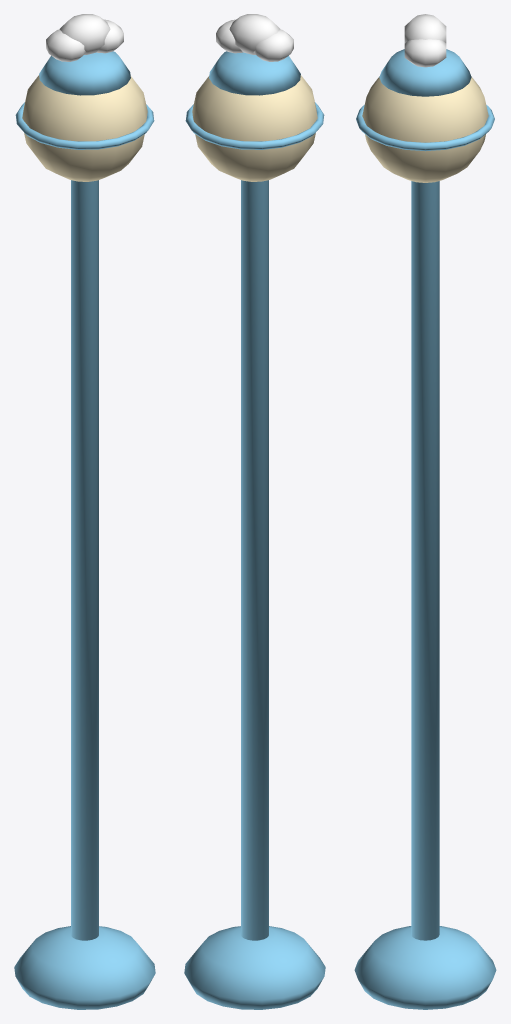
Rendered from street_lamp.glb.
3 views of the same model, side by side, from view 1: azimuth 30°, elevation 25°; view 2: azimuth 150°, elevation 25°; view 3: azimuth 270°, elevation 25° (orthographic).
Parts seen in each view (by area): view 1: Body; view 2: Body; view 3: Body.
Part boxes in pixels (x1=…): Body: x1=14, y1=14, x2=155, y2=1009; Body: x1=184, y1=14, x2=325, y2=1009; Body: x1=354, y1=14, x2=496, y2=1009.
Size of the model in its own units: 0.4 by 3 by 0.4.
3 materials, 3 textured.
